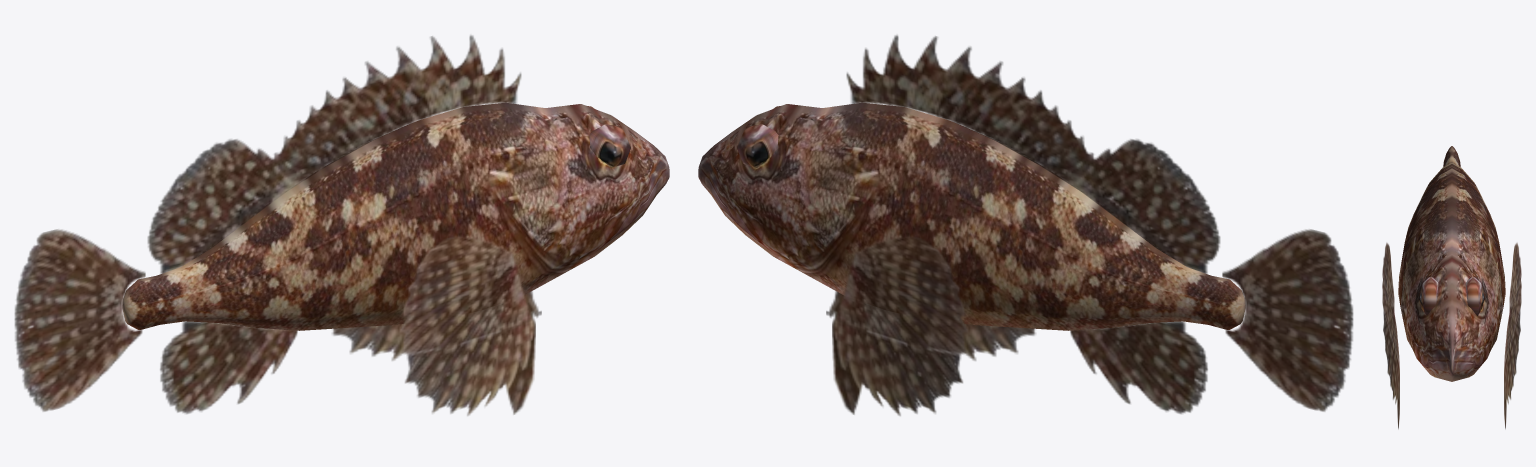
The model's file is kasago_lo.glb.
3 renders of one model, left to right at view 1: azimuth 30°, elevation 25°; view 2: azimuth 150°, elevation 25°; view 3: azimuth 270°, elevation 25°, orthographic. The views are drawn at different scales.
Parts seen in each view (by area): view 1: kasago_body; view 2: kasago_body; view 3: kasago_body.
Boxes of the visible parts, left/top/right/bottom form: kasago_body: left=14, top=35, right=669, bottom=415; kasago_body: left=698, top=35, right=1353, bottom=415; kasago_body: left=1382, top=146, right=1521, bottom=429.
Bounding box in the file's own units: 0.2203 × 0.1176 × 0.0517.
1 material, 1 textured.
